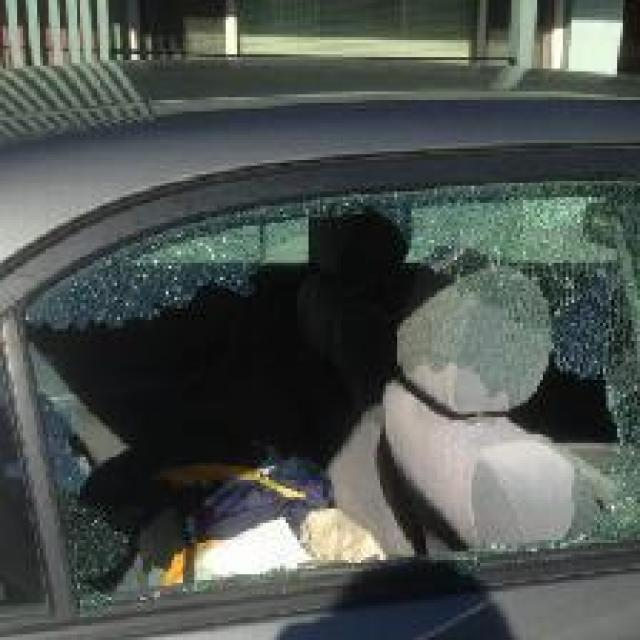damaged: (34, 182, 637, 618)
